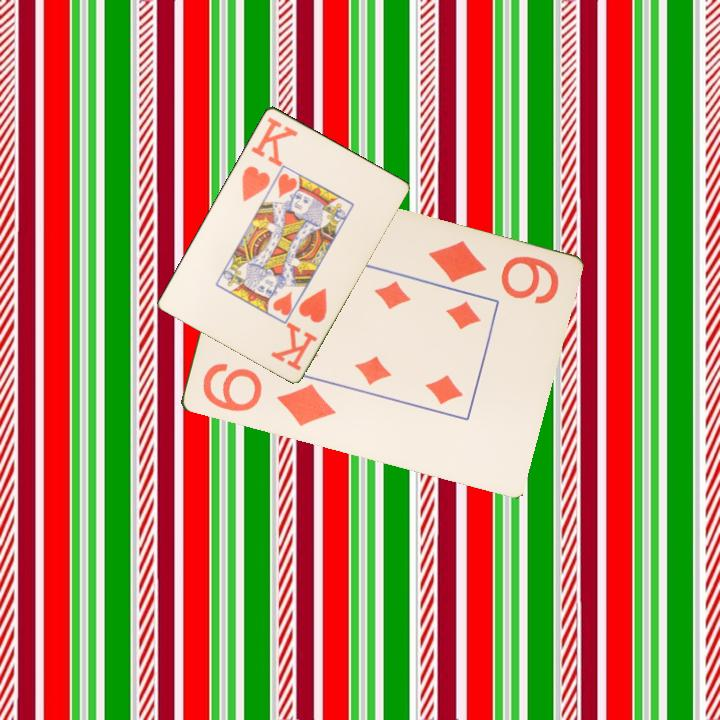6d: (198, 359, 339, 430), (424, 237, 562, 308)
Kh: (238, 113, 301, 204), (267, 284, 330, 373)
